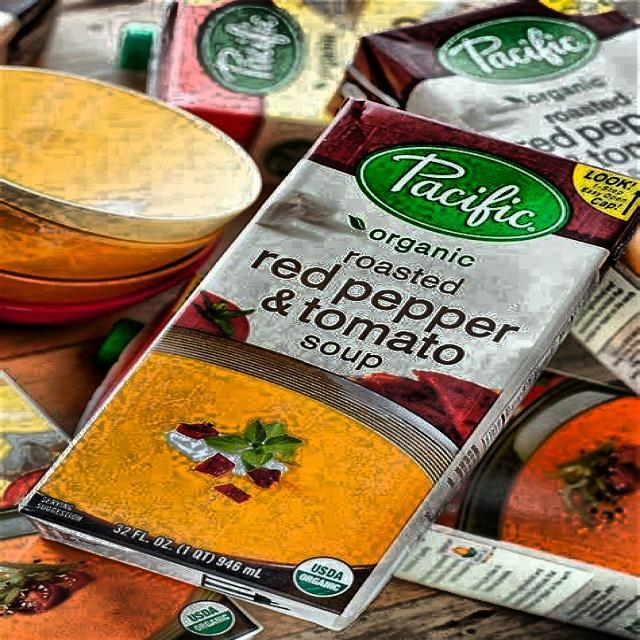cardboard: (15, 97, 638, 630)
